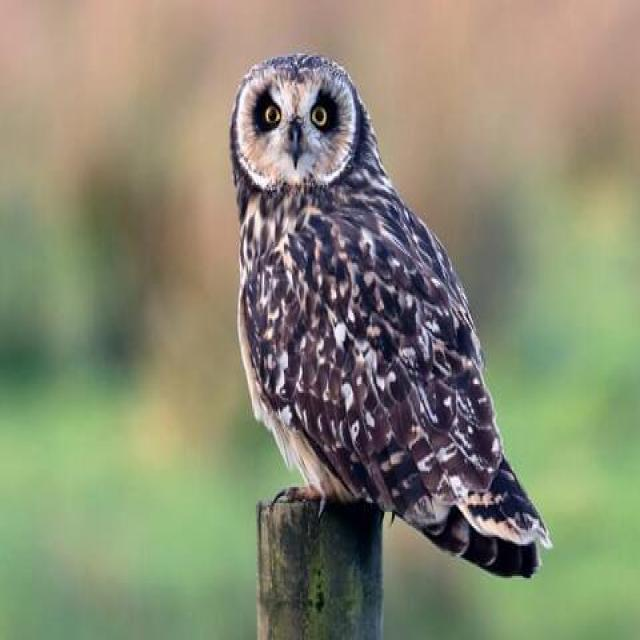Owl: (220, 42, 554, 585)
